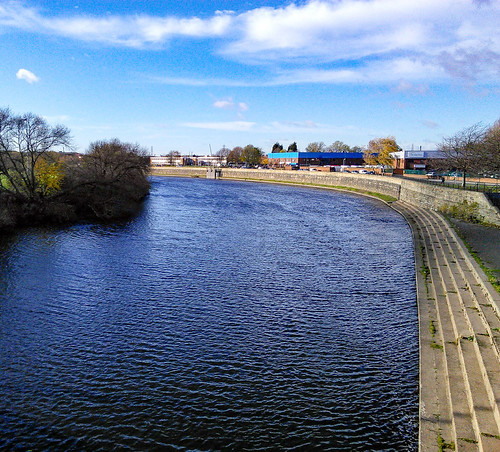building: (277, 145, 377, 171), (149, 153, 242, 167), (404, 149, 459, 172)
river: (6, 176, 422, 447)
sky: (1, 1, 495, 138)
tree: (435, 129, 494, 189), (364, 138, 396, 169), (235, 143, 269, 171)
vegetation: (10, 137, 132, 223)
